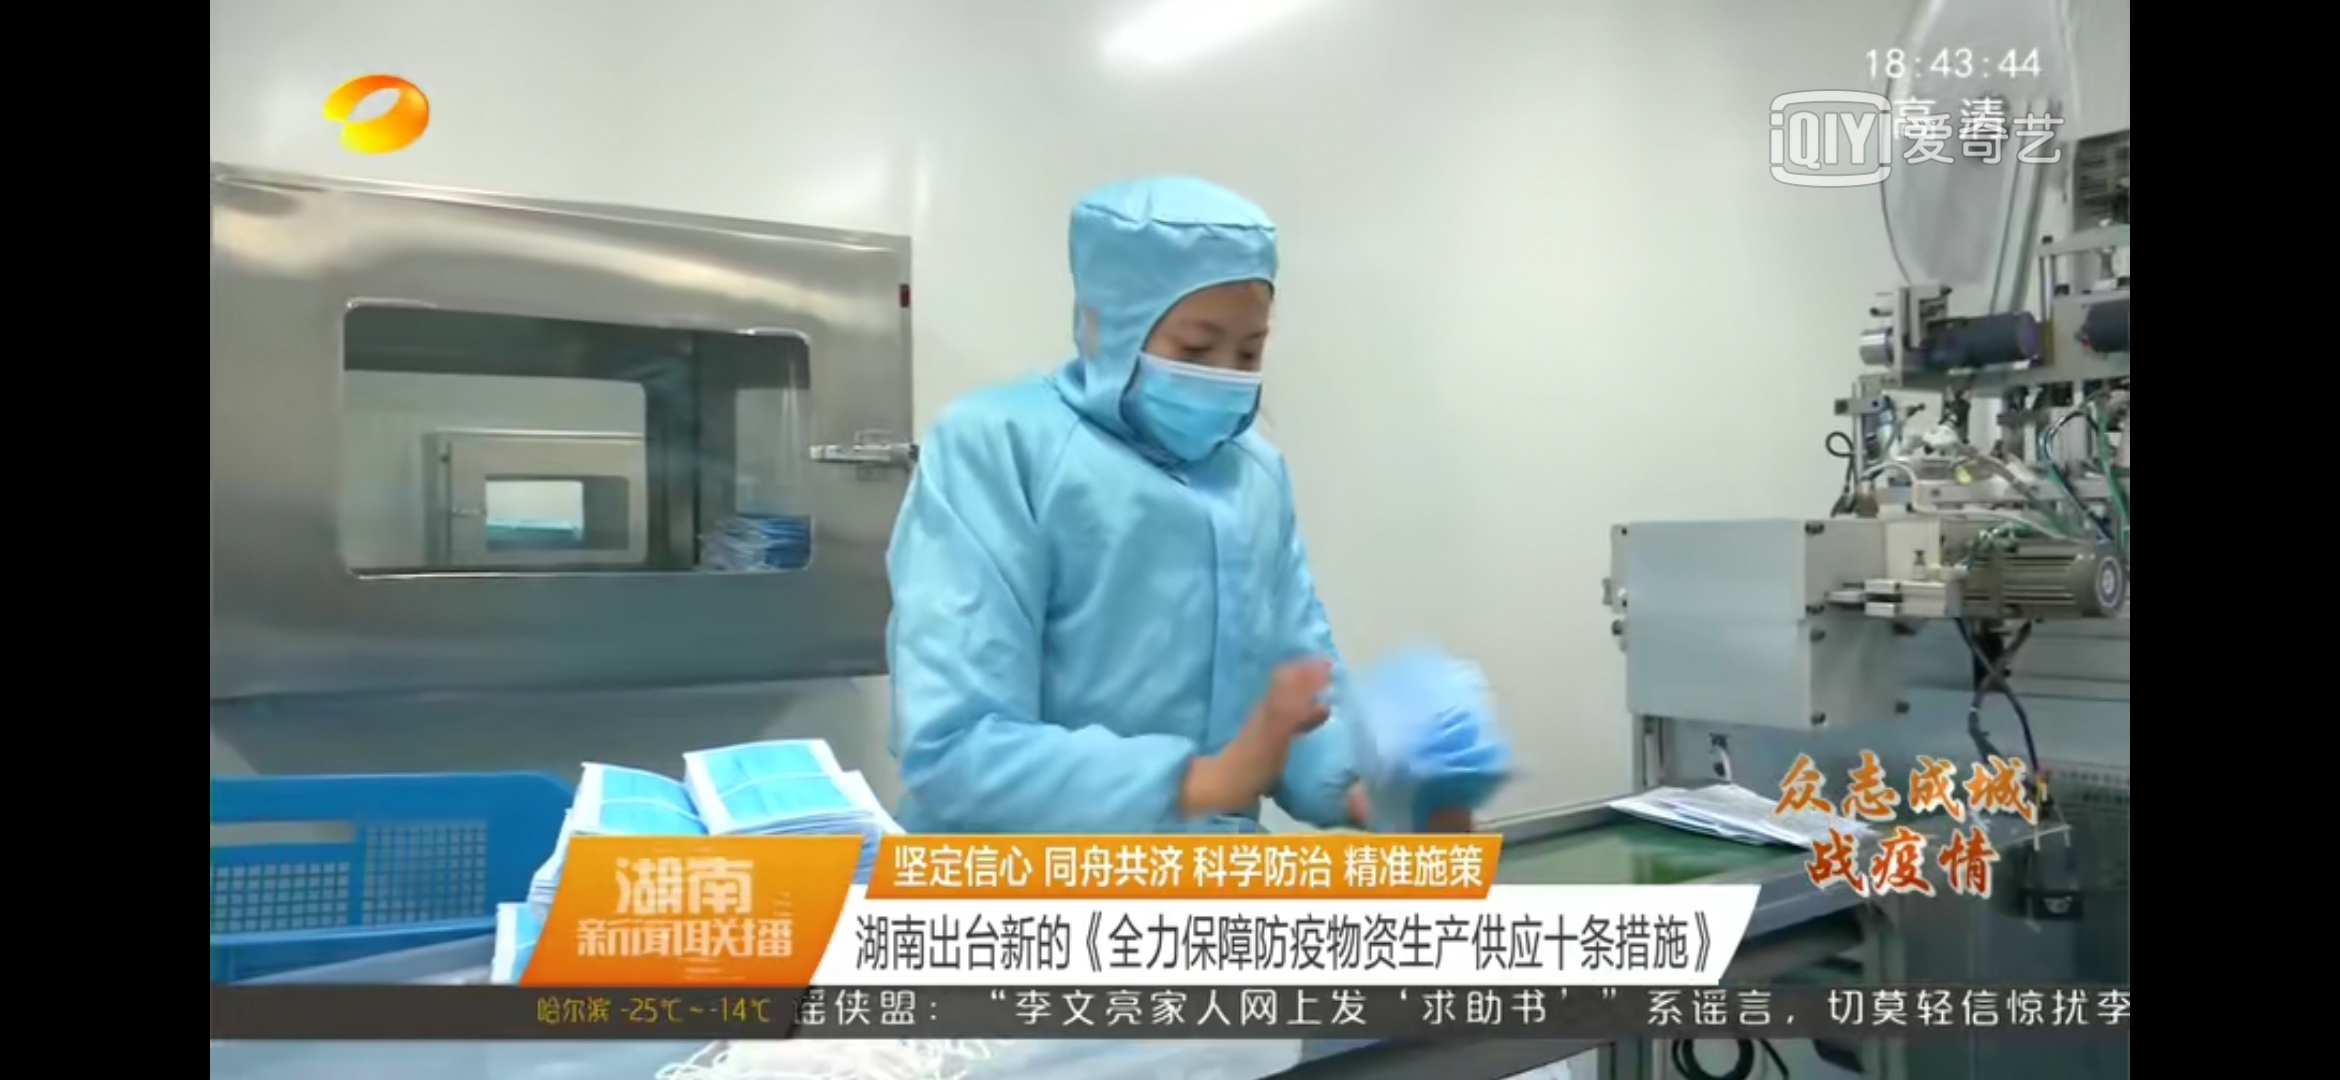correctlyWear: (1110, 295, 1270, 467)
